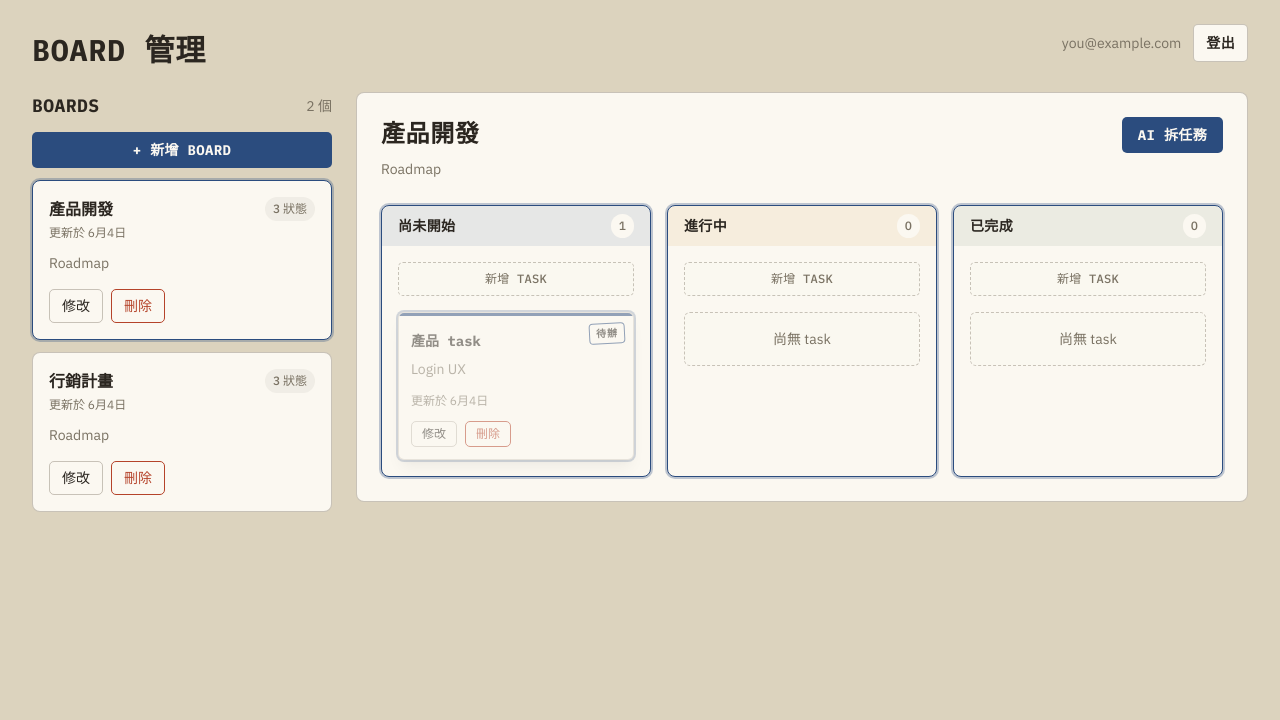
it: BoardPage integration › deletes a board and its tasks after confirmation
The image size is (1280, 720).
Check: the 1st heading "產品開發" is shown, box x1=381 y1=117 x2=479 y2=149
Click the 1st button "刪除" at (138, 306), box x1=111 y1=289 x2=165 y2=323
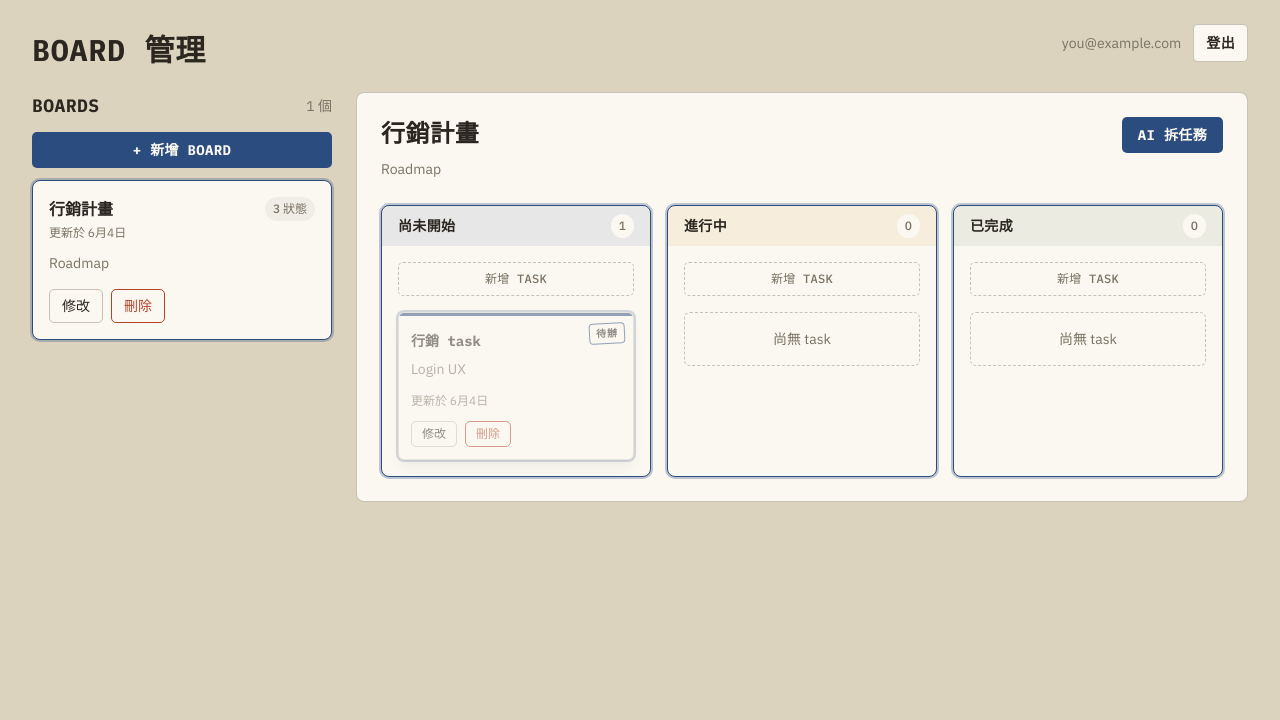
Check: the element named "Board 行銷計畫" is shown, box x1=32 y1=180 x2=332 y2=340
Check: the element "Board 產品開發" is gone
